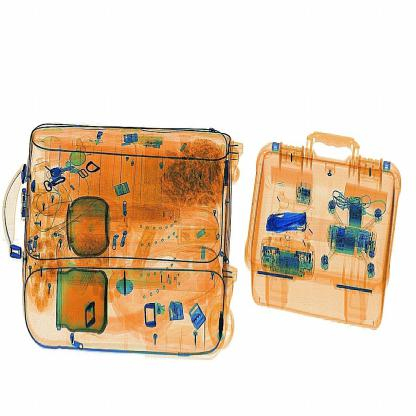knife: (266, 205, 310, 231)
